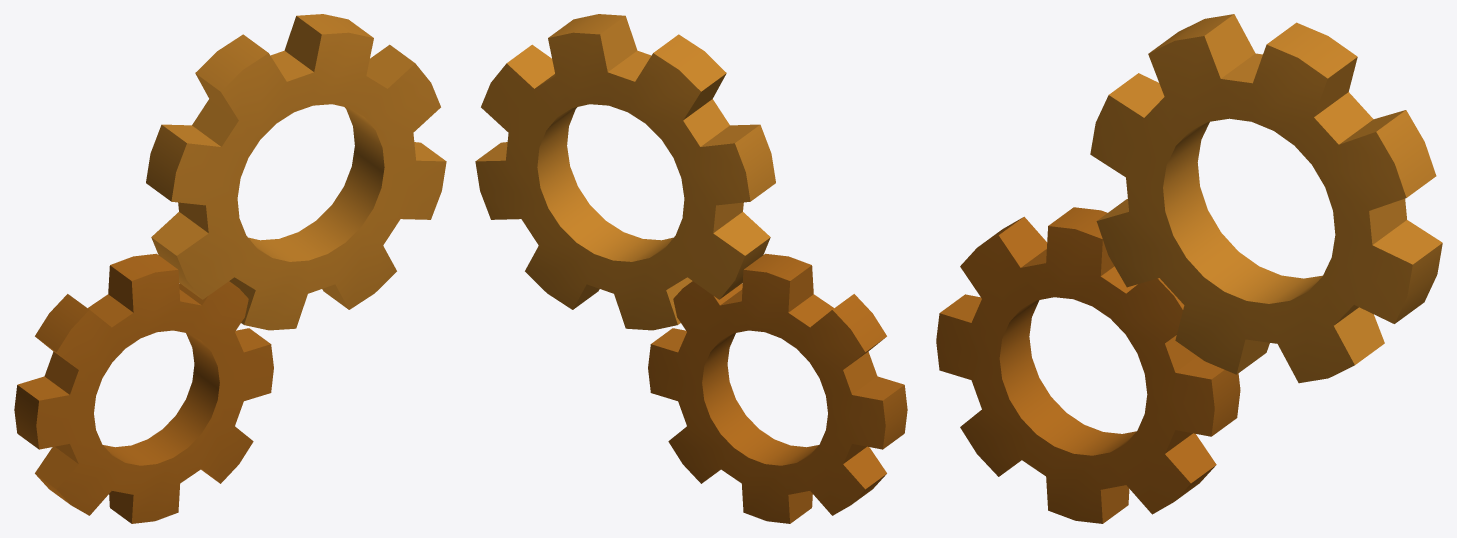
Rendered from Settings.fbx.
The picture shows the model from 3 angles, left to right: view 1: azimuth 30°, elevation 25°; view 2: azimuth 150°, elevation 25°; view 3: azimuth 330°, elevation 25°; orthographic projection. The views are drawn at different scales.
Parts seen in each view (by area): view 1: Cylinder.001, Cylinder; view 2: Cylinder.001, Cylinder; view 3: Cylinder.001, Cylinder.
Boxes of the visible parts, <box> form: Cylinder.001: <box>146,14,446,330</box>; Cylinder: <box>14,253,273,523</box>; Cylinder.001: <box>475,14,775,330</box>; Cylinder: <box>648,253,907,523</box>; Cylinder.001: <box>1090,14,1442,383</box>; Cylinder: <box>936,207,1240,523</box>.
Bounding box in the file's own units: 454 × 475 × 57.08.
